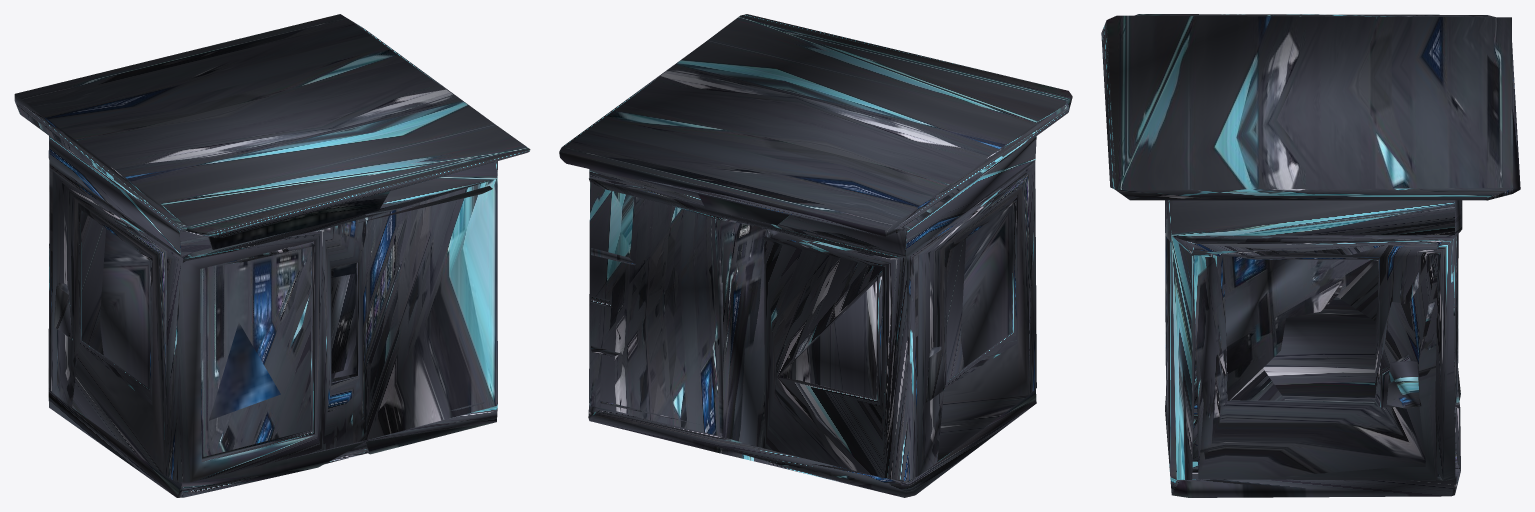
The model's file is newsstand.glb.
3 renders of one model, left to right at view 1: azimuth 30°, elevation 25°; view 2: azimuth 150°, elevation 25°; view 3: azimuth 270°, elevation 25°, orthographic. The views are drawn at different scales.
Bounding box in the file's own units: 1 × 0.8042 × 0.9826.
Materials: 1 (1 with a texture image).
